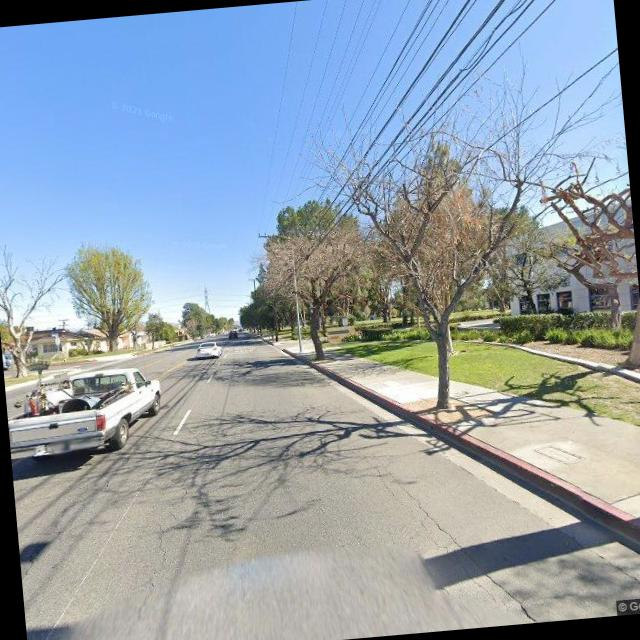pothole: (364, 441, 528, 615), (102, 459, 205, 640)
